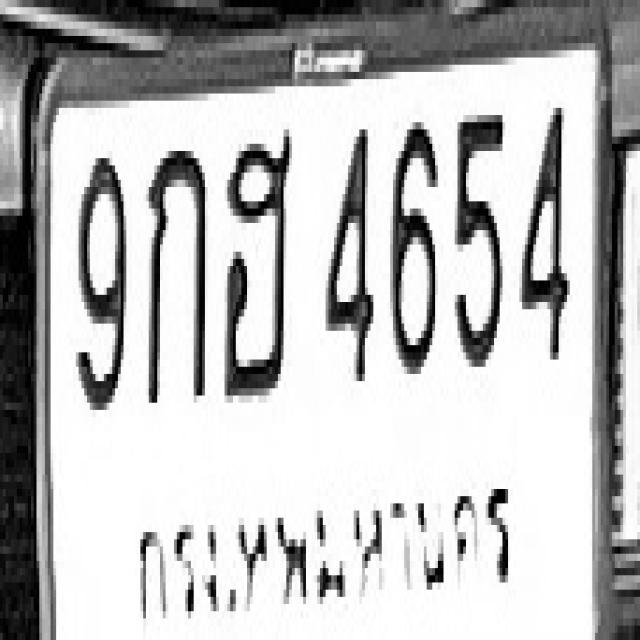10GorGai: (144, 144, 207, 403)
4: (519, 100, 570, 360), (323, 122, 373, 381)
5: (453, 108, 504, 367)
53HorNokHook: (222, 126, 292, 399)
6: (389, 115, 436, 374)
9: (76, 151, 126, 410)
Bangkok: (132, 469, 520, 636)
